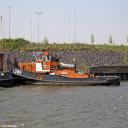tugboat: (8, 52, 122, 89)
